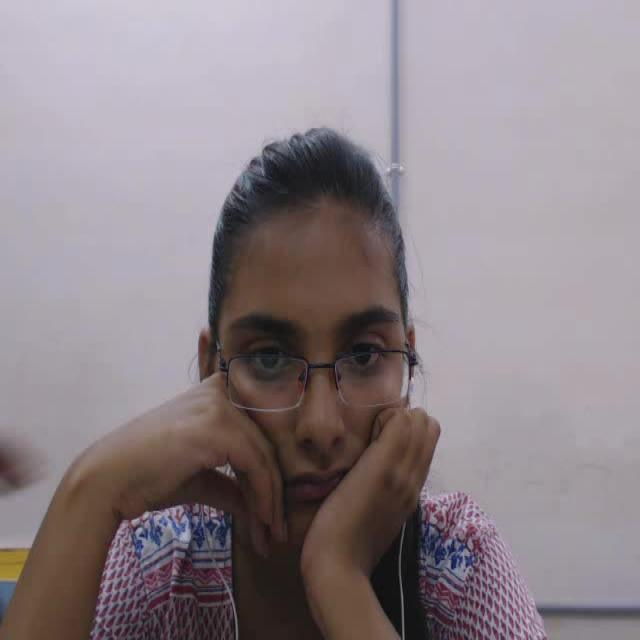Bored: (166, 104, 492, 569)
